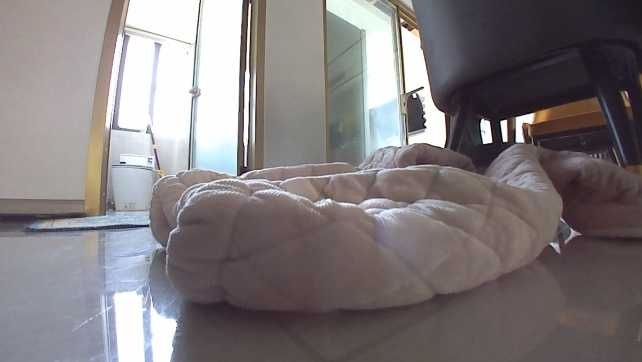blanket: (24, 210, 155, 231)
toilet: (107, 151, 159, 210)
